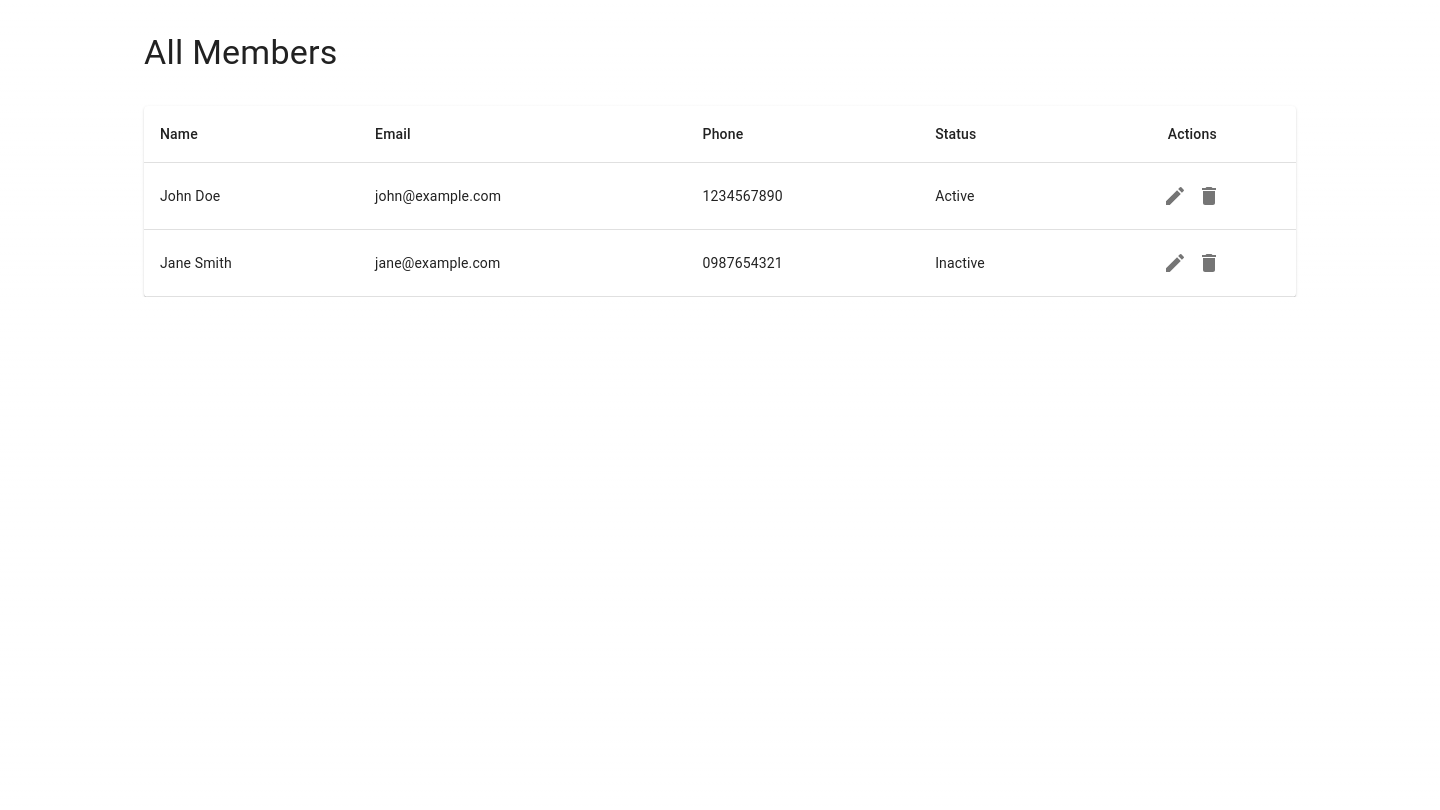
Test case: ViewAllMembers › updates member
The image size is (1440, 810).
Click the button named "Edit" in the row of "John Doe" at (1175, 196), box x1=1158 y1=179 x2=1192 y2=213
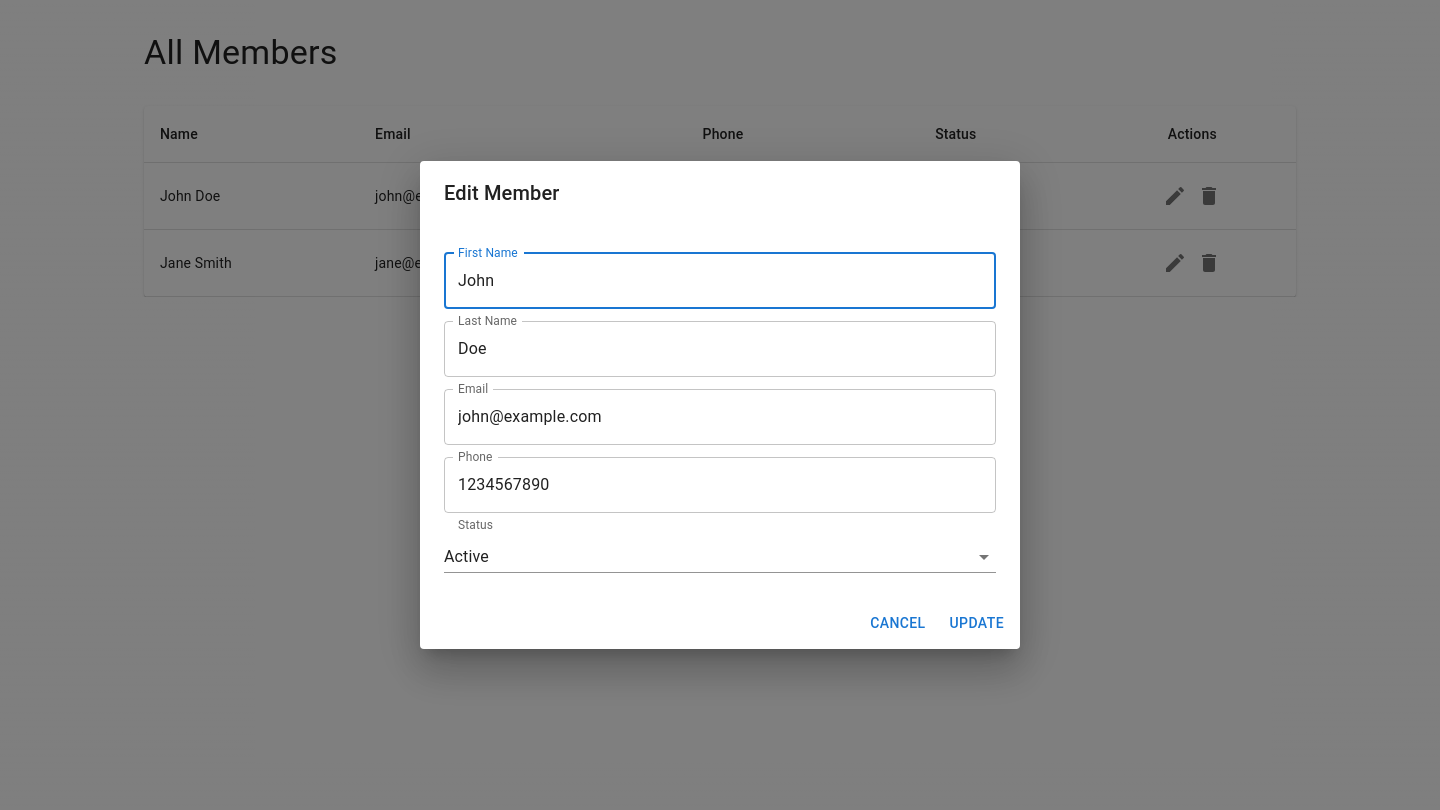
Replace the text in the field labelled "First Name" with "Jim" at (720, 281), box x1=444 y1=253 x2=996 y2=309
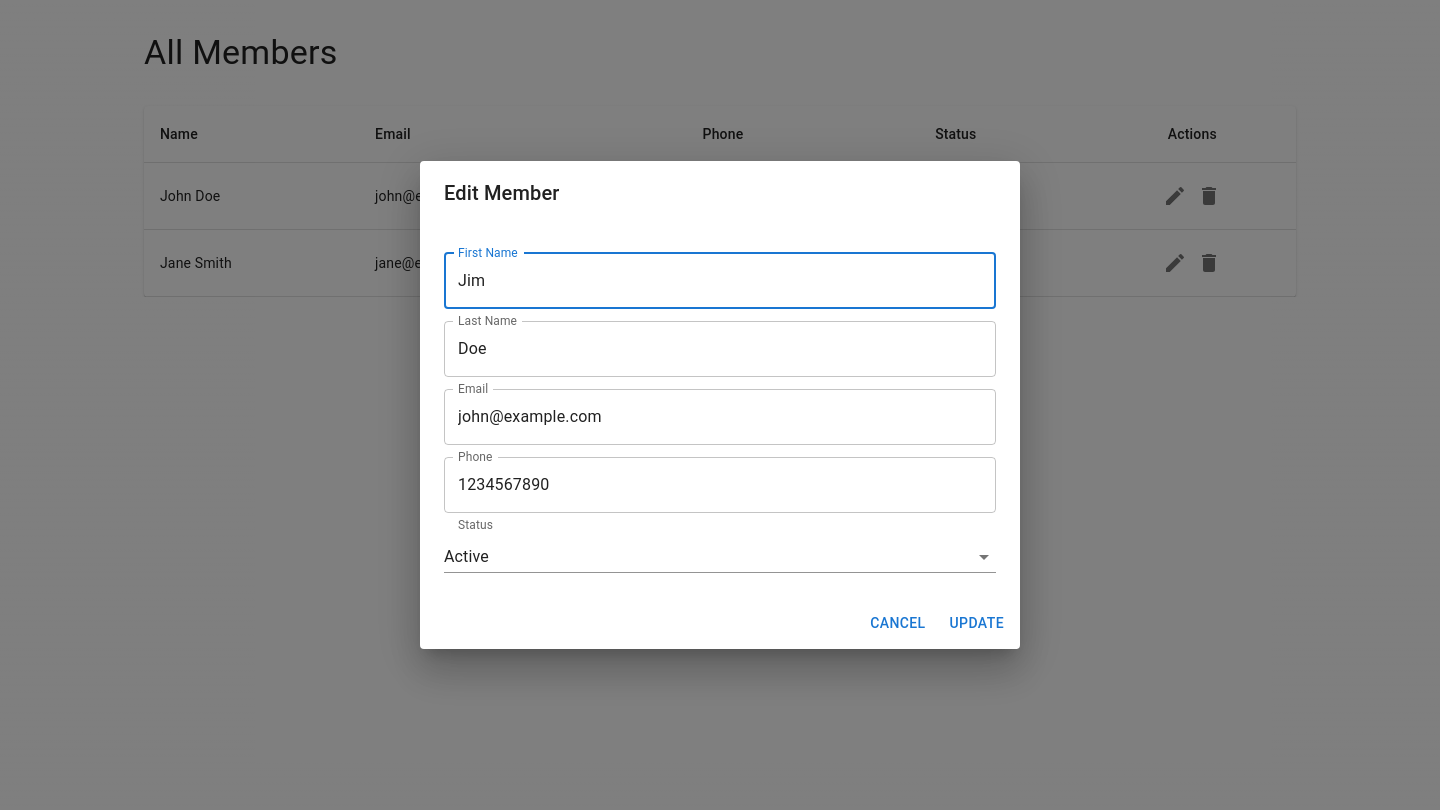
Click the button "Update" at (977, 623), box x1=942 y1=605 x2=1012 y2=641
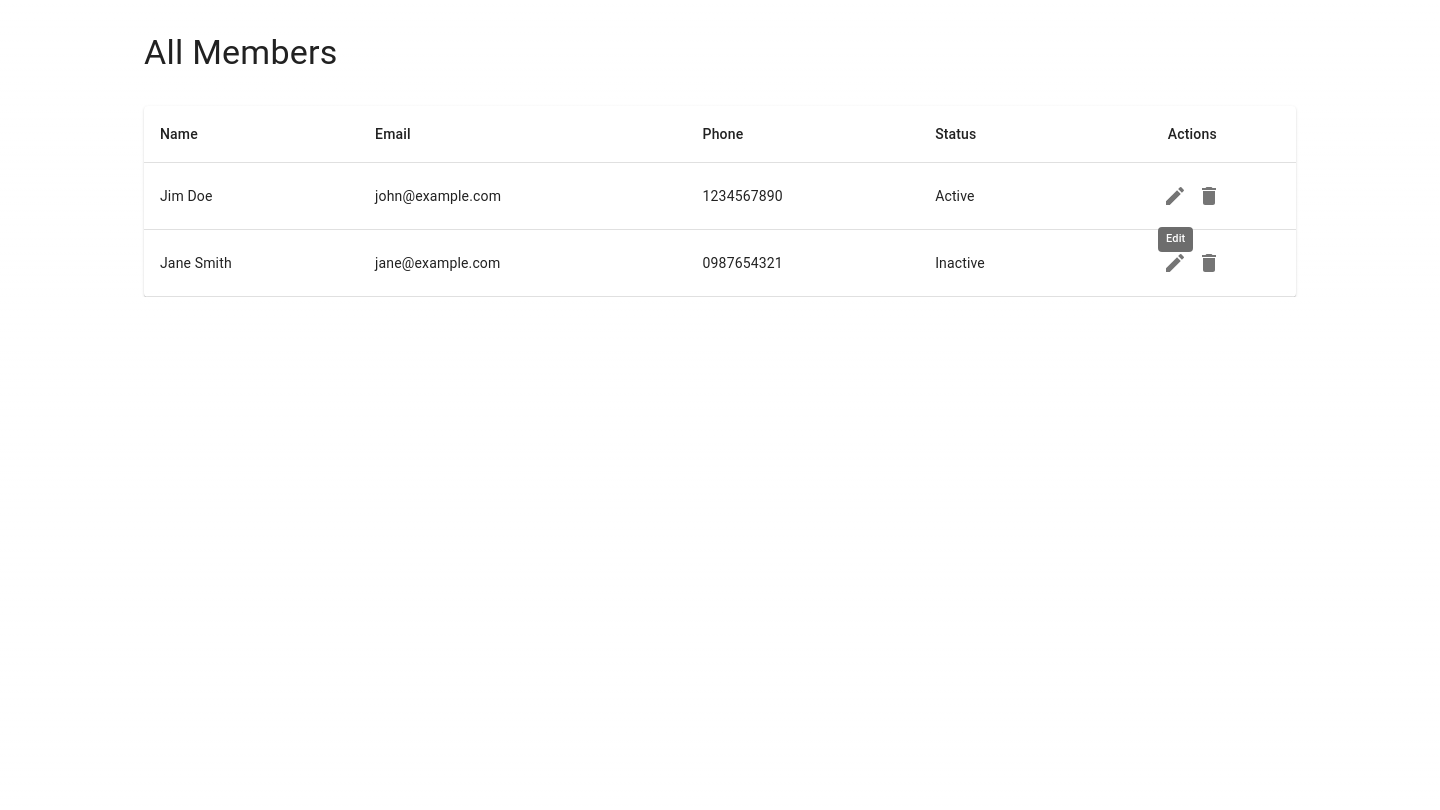
Result: the heading "Edit Member" is gone
Result: the text "John Doe" is gone
Result: the text "Jim Doe" is shown at x1=144 y1=162 x2=359 y2=230
